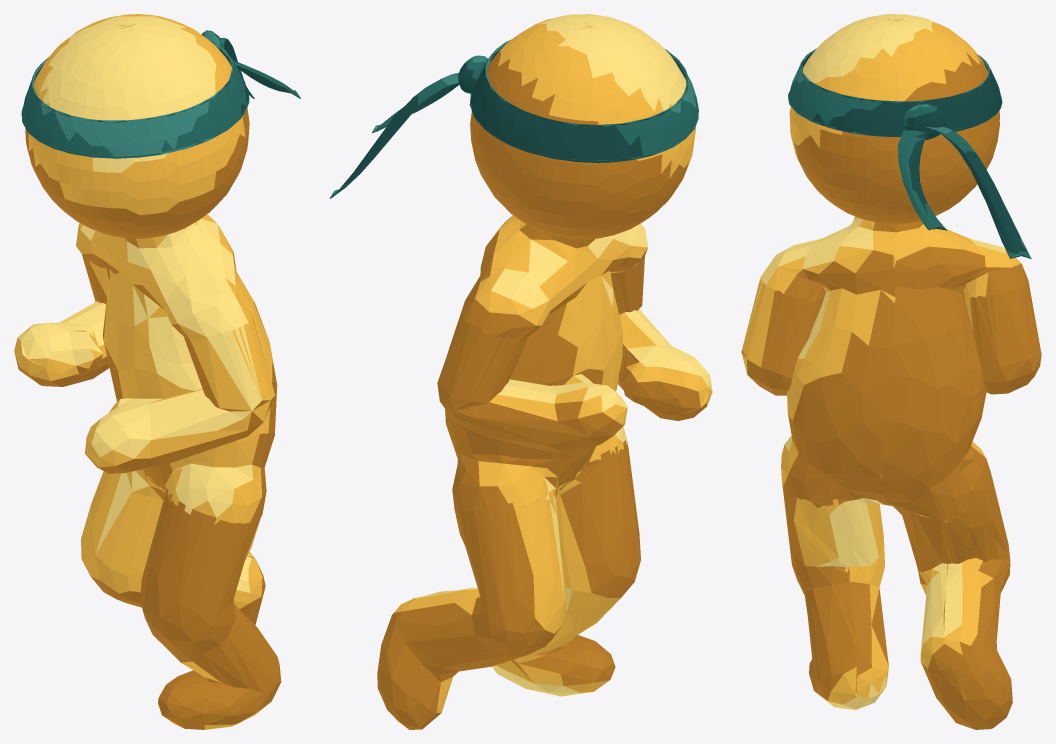
The model's file is Ninja_Jog3_L.gltf.
3 views of the same model, side by side, from view 1: azimuth 30°, elevation 25°; view 2: azimuth 150°, elevation 25°; view 3: azimuth 270°, elevation 25° (orthographic). The views are drawn at different scales.
Parts seen in each view (by area): view 1: Ninja_Jog3_L_baked; view 2: Ninja_Jog3_L_baked; view 3: Ninja_Jog3_L_baked.
Boxes of the visible parts, x1=… form: Ninja_Jog3_L_baked: x1=14, y1=14, x2=300, y2=729; Ninja_Jog3_L_baked: x1=329, y1=14, x2=712, y2=729; Ninja_Jog3_L_baked: x1=741, y1=14, x2=1041, y2=729.
Bounding box in the file's own units: 0.4256 × 1 × 0.4183.
